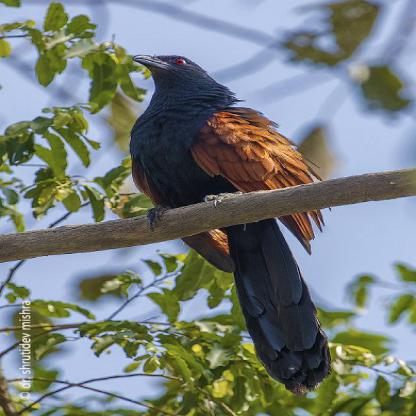Burung: (130, 54, 329, 395)
